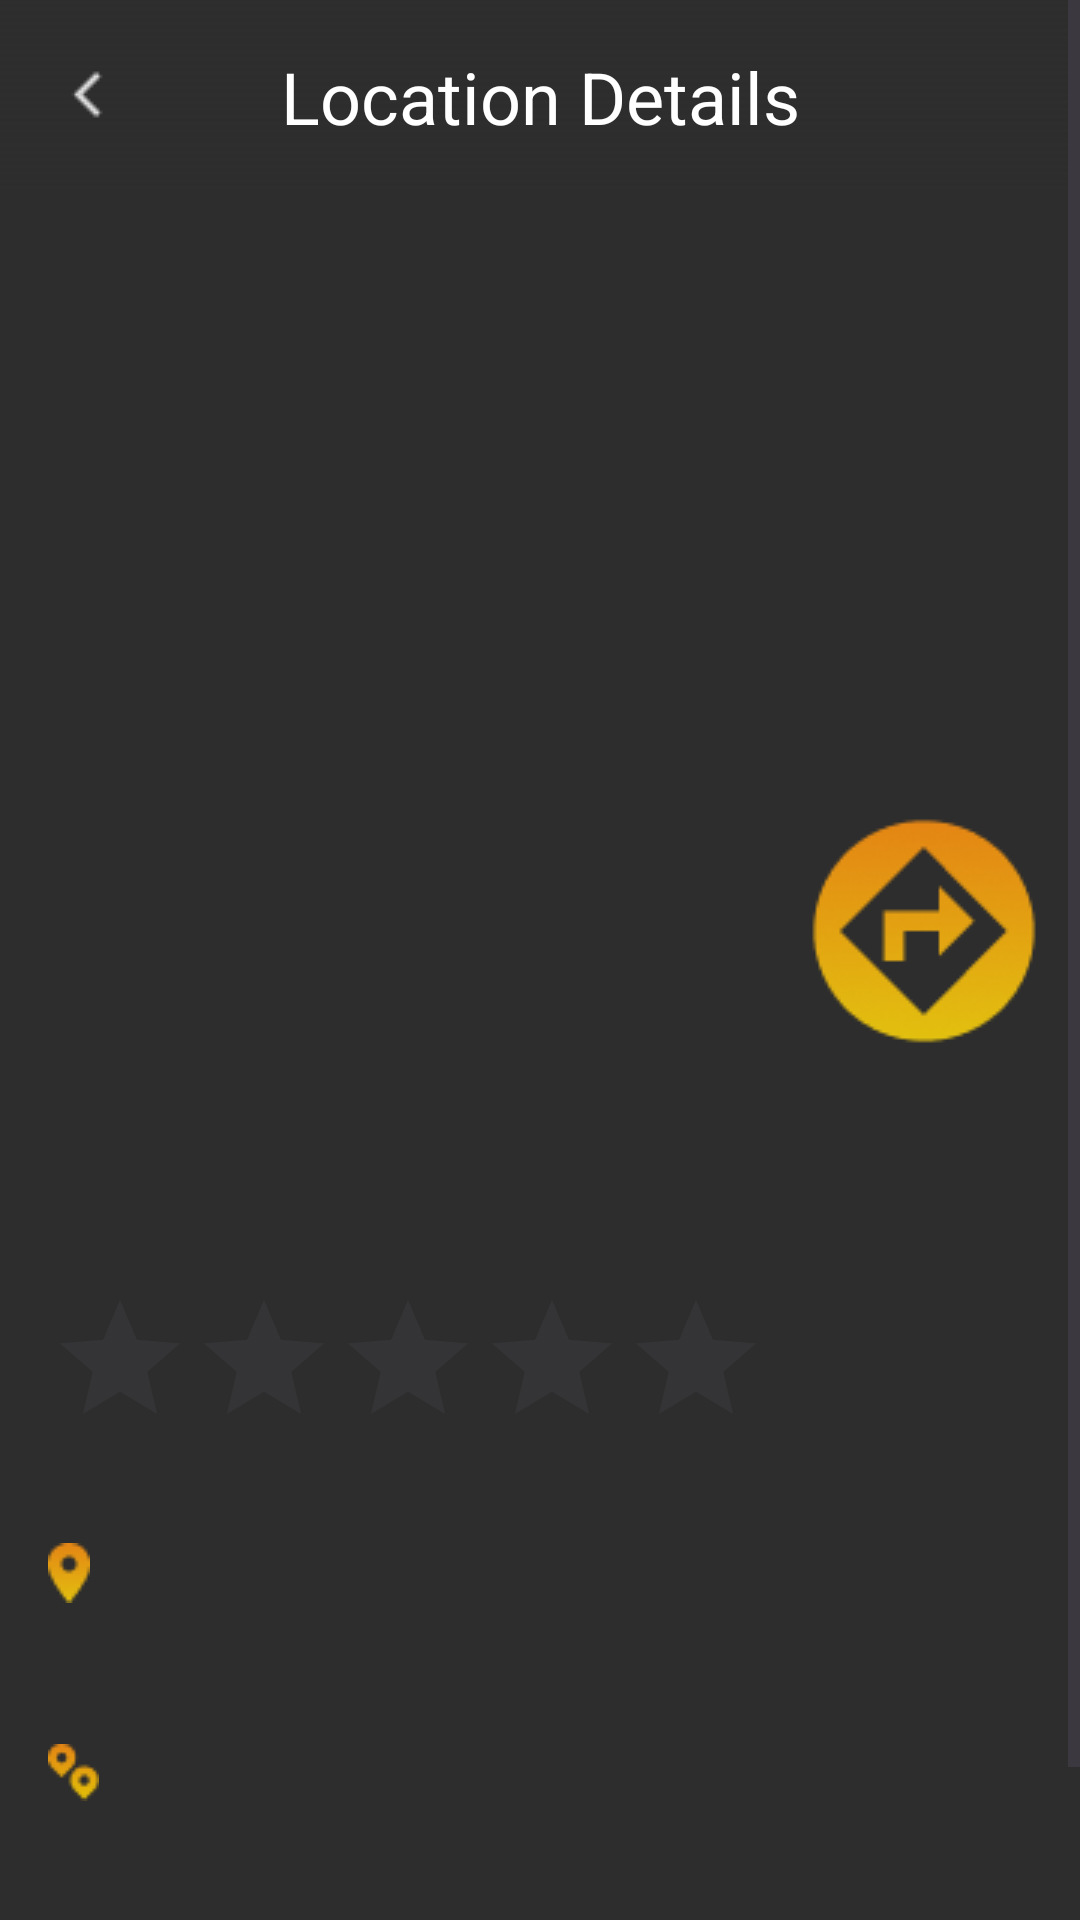

Screen size 1080*1920. Icon name, then its center in pixels as (x,y):
distance: (73,1772)
location: (69,1573)
location direction: (924,931)
upload goback: (88,94)
